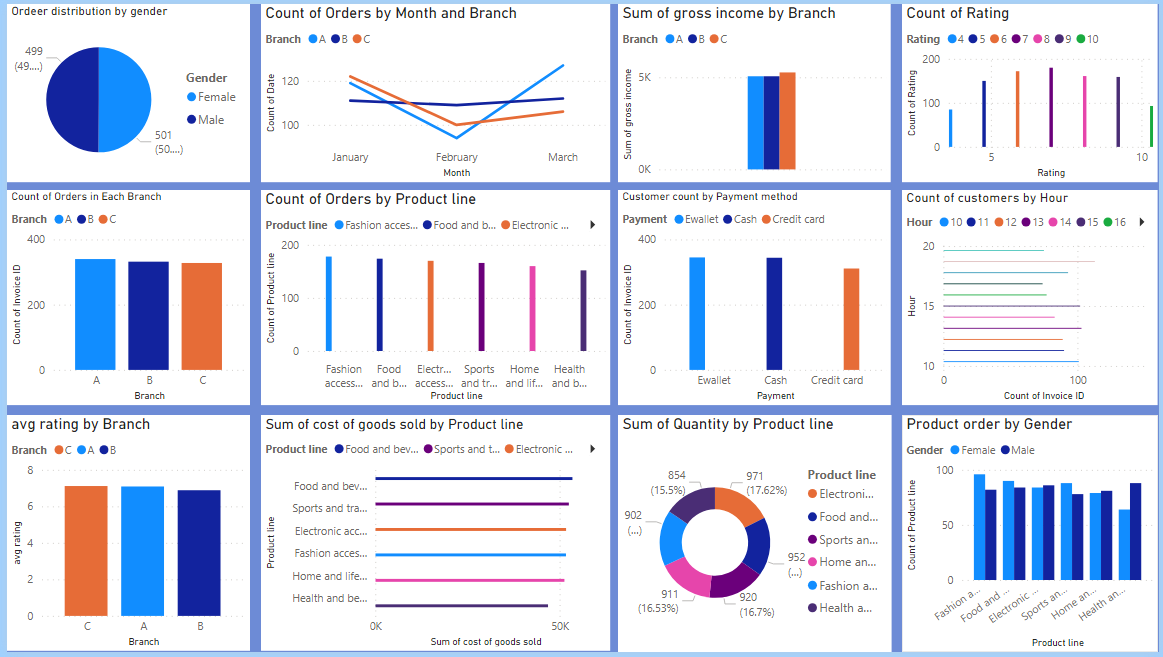

The page's visual inventory and layout, read from the dashboard file:
{"tool":"powerbi","page":{"name":"Page 1","canvas":[1280,720],"ordinal":0},"visuals":[{"type":"clusteredColumnChart","title":"Count of Rating ","fields":{"Category":["supermarket_sales - Sheet1.Rating"],"Y":["CountNonNull(supermarket_sales - Sheet1.Rating)"],"Series":["supermarket_sales - Sheet1.Rating"]},"box":[994.4,0,284.4,197.8],"z":0},{"type":"columnChart","title":"Count of Orders in Each Branch","fields":{"Category":["supermarket_sales - Sheet1.Branch"],"Y":["CountNonNull(supermarket_sales - Sheet1.Invoice ID)"],"Series":["supermarket_sales - Sheet1.Branch"]},"box":[0,206.7,270,238.9],"z":1000},{"type":"pieChart","title":"Ordeer distribution by gender","fields":{"Category":["supermarket_sales - Sheet1.Gender"],"Y":["CountNonNull(supermarket_sales - Sheet1.Gender)"]},"box":[0,0,270,197.8],"z":2000},{"type":"clusteredColumnChart","title":"Count of Orders by Product line","fields":{"Category":["supermarket_sales - Sheet1.Product line"],"Y":["CountNonNull(supermarket_sales - Sheet1.Product line)"],"Series":["supermarket_sales - Sheet1.Product line"]},"box":[282.2,206.7,387.8,238.9],"z":3000},{"type":"lineChart","title":"Count of Orders by Month and Branch","fields":{"Category":["supermarket_sales - Sheet1.Date.Variation.Date Hierarchy.Month"],"Series":["supermarket_sales - Sheet1.Branch"],"Y":["CountNonNull(supermarket_sales - Sheet1.Date)"]},"box":[282.2,0,387.8,197.8],"z":4000},{"type":"columnChart","title":"avg rating by Branch","fields":{"Y":["supermarket_sales - Sheet1.avg rating"],"Series":["supermarket_sales - Sheet1.Branch"],"Category":["supermarket_sales - Sheet1.Branch"]},"box":[0,456.7,270,262.2],"z":5000},{"type":"clusteredColumnChart","fields":{"Y":["Sum(supermarket_sales - Sheet1.gross income)"],"Series":["supermarket_sales - Sheet1.Branch"]},"box":[678.9,0,303.3,197.8],"z":6000},{"type":"clusteredColumnChart","title":"Customer count by Payment method","fields":{"Category":["supermarket_sales - Sheet1.Payment"],"Y":["CountNonNull(supermarket_sales - Sheet1.Invoice ID)"],"Series":["supermarket_sales - Sheet1.Payment"]},"box":[678.9,206.7,303.3,238.9],"z":7000},{"type":"clusteredBarChart","title":"Sum of cost of goods sold by Product line ","fields":{"Category":["supermarket_sales - Sheet1.Product line"],"Y":["Sum(supermarket_sales - Sheet1.cost of goods sold)"],"Series":["supermarket_sales - Sheet1.Product line"]},"box":[282.2,456.7,387.8,262.2],"z":8000},{"type":"donutChart","fields":{"Category":["supermarket_sales - Sheet1.Product line"],"Y":["Sum(supermarket_sales - Sheet1.Quantity)"]},"box":[678.9,456.7,304.4,264.4],"z":9000},{"type":"clusteredBarChart","title":"Count of customers by Hour","fields":{"Category":["supermarket_sales - Sheet1.Hour"],"Y":["CountNonNull(supermarket_sales - Sheet1.Invoice ID)"],"Series":["supermarket_sales - Sheet1.Hour"]},"box":[994.4,206.7,284.4,238.9],"z":10000},{"type":"clusteredColumnChart","title":"Product order by Gender","fields":{"Category":["supermarket_sales - Sheet1.Product line"],"Series":["supermarket_sales - Sheet1.Gender"],"Y":["CountNonNull(supermarket_sales - Sheet1.Product line)"]},"box":[994.4,456.7,284.4,263.3],"z":11000}]}

Visuals, with their boxes in screenshot pixels (x1, y1, x2, y2), scaled from the page's 1280x720 canvas onto the 1163x657 screenshot:
"Count of Rating " clusteredColumnChart: x1=904, y1=0, x2=1162, y2=180
"Count of Orders in Each Branch" columnChart: x1=0, y1=189, x2=245, y2=407
"Ordeer distribution by gender" pieChart: x1=0, y1=0, x2=245, y2=180
"Count of Orders by Product line" clusteredColumnChart: x1=256, y1=189, x2=609, y2=407
"Count of Orders by Month and Branch" lineChart: x1=256, y1=0, x2=609, y2=180
"avg rating by Branch" columnChart: x1=0, y1=417, x2=245, y2=656
clusteredColumnChart - Sum(supermarket_sales - Sheet1.gross income) x supermarket_sales - Sheet1.Branch: x1=617, y1=0, x2=892, y2=180
"Customer count by Payment method" clusteredColumnChart: x1=617, y1=189, x2=892, y2=407
"Sum of cost of goods sold by Product line " clusteredBarChart: x1=256, y1=417, x2=609, y2=656
donutChart - supermarket_sales - Sheet1.Product line x Sum(supermarket_sales - Sheet1.Quantity): x1=617, y1=417, x2=893, y2=656
"Count of customers by Hour" clusteredBarChart: x1=904, y1=189, x2=1162, y2=407
"Product order by Gender" clusteredColumnChart: x1=904, y1=417, x2=1162, y2=656
